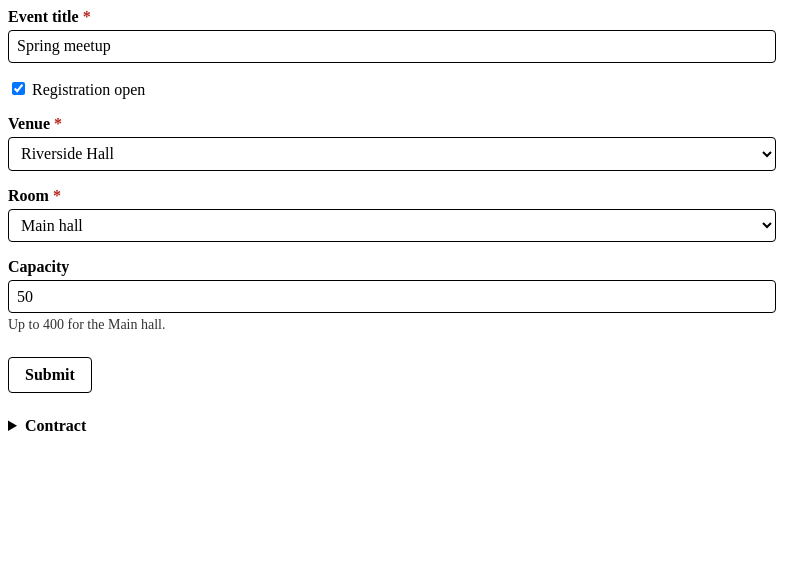
submitting example 2 › shows a 422 problem as refused values, inline and in a summary
Click the button "Submit": [50, 375] box [8,357,92,393]
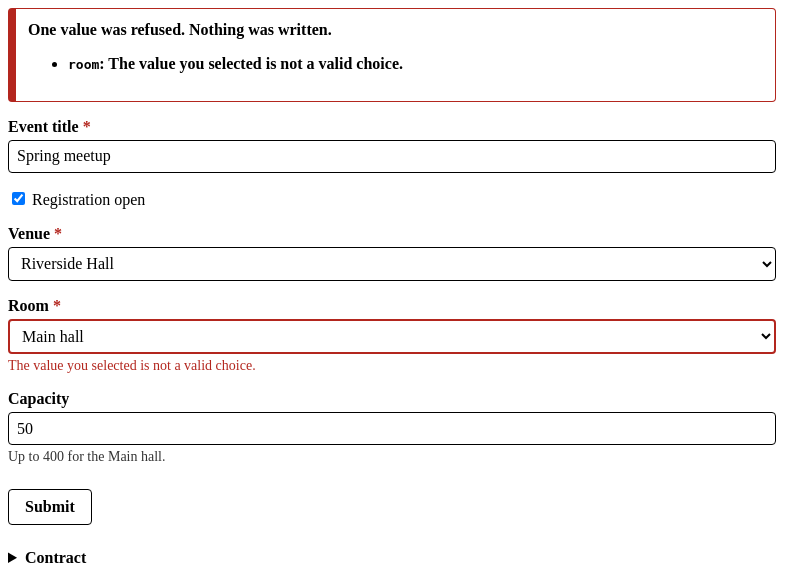
Expected: the field labelled "Event title*" holds "Spring meetup", [8,140,776,173]
Expected: the message that starts with "One value was refused" shows "One value was refused. Nothing was written.", [8,8,776,102]
Expected: the message that starts with "One value was refused" shows "room: The value you selected is not a valid choice.", [8,8,776,102]
